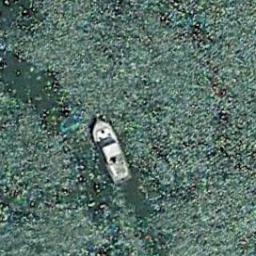boat: (90, 117, 131, 184)
